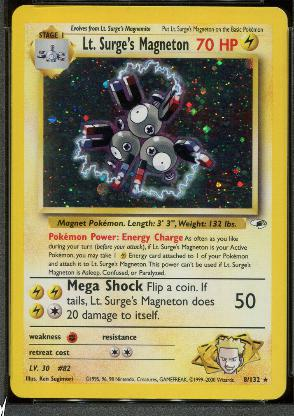Card: (10, 3, 286, 403)
